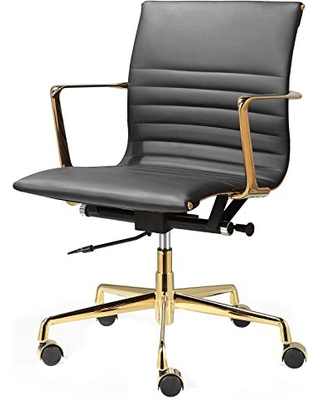chairs: (5, 1, 320, 400)
